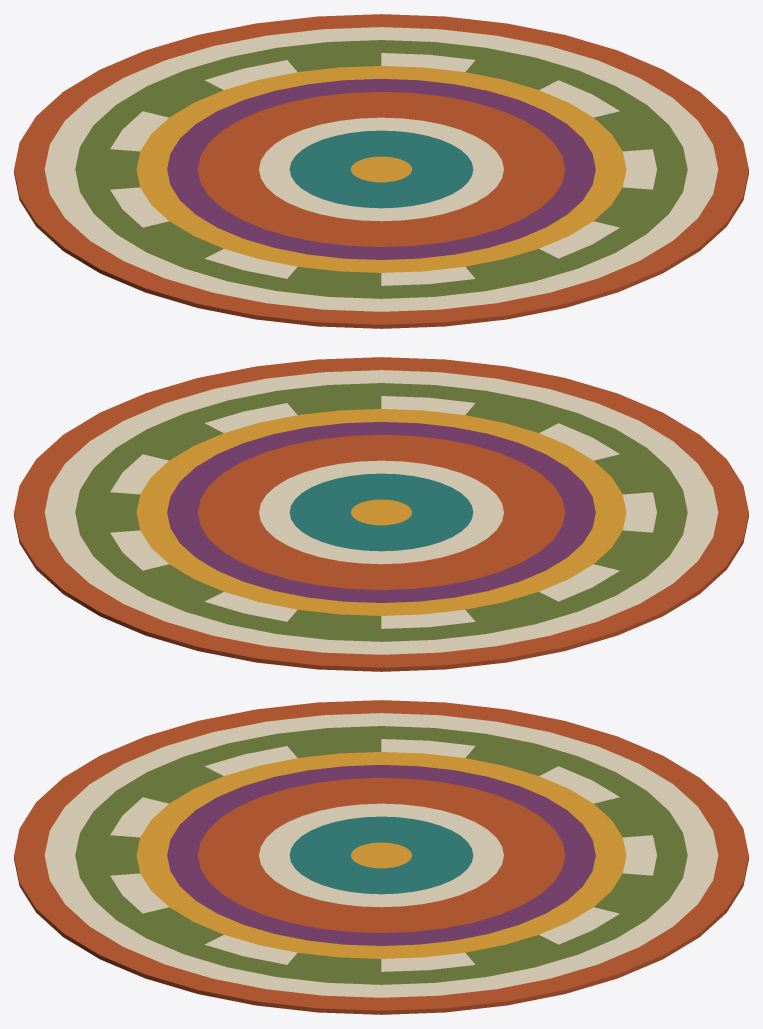
Rendered from deco_rug_round.fbx.
3 views of the same model, one above another, from view 1: azimuth 30°, elevation 25°; view 2: azimuth 150°, elevation 25°; view 3: azimuth 270°, elevation 25° (orthographic).
Visible parts, largest first — view 1: Rug_Round_Rug; view 2: Rug_Round_Rug; view 3: Rug_Round_Rug.
Part boxes in pixels (x1,y1,x2,y2): Rug_Round_Rug: (14,14,748,328); Rug_Round_Rug: (14,357,748,671); Rug_Round_Rug: (14,700,748,1014).
Bounding box in the file's own units: 260 × 1.6 × 260.
